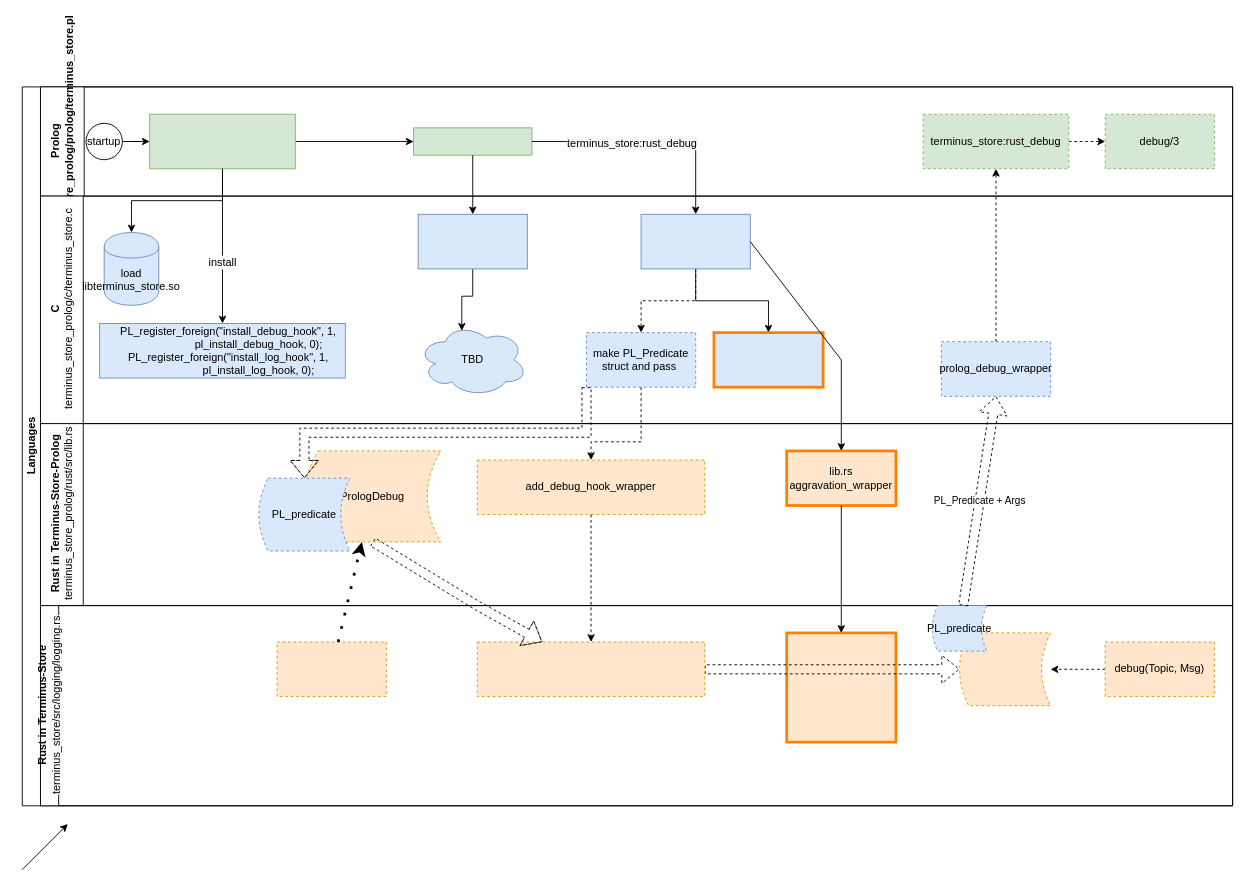
This 1249x893 diagram has some shape labels left out. Each missing label, with the centre of its shape:
debug_hook global: DebugSinkl: [1005,669]
DebugSink trait: [331,669]
install_debug_hook: [695,241]
install_log_hook: [472,241]
install_logging_hooks: [472,141]
logging/logging.rs add_debug_hook stores hook in a global: [590,669]
logging/logging.rs aggravation: [841,687]
store PL_Predicate struct in debug_hook: [768,359]
use_foreign_library( foreign(libterminus_store)): [222,141]
